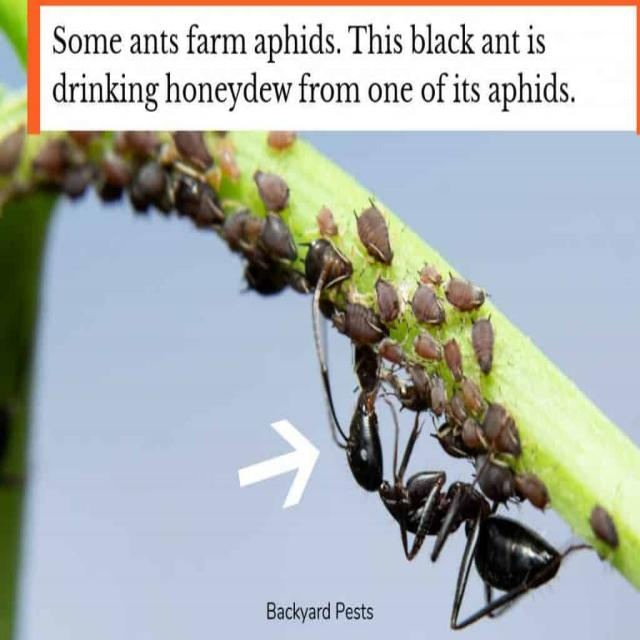Aphid-Grouped-: (300, 167, 549, 491)
Aphid-Grown-: (347, 185, 402, 272), (440, 257, 497, 332), (294, 223, 349, 297), (406, 275, 448, 342), (249, 156, 295, 217), (368, 267, 406, 333), (469, 309, 501, 381), (434, 330, 473, 389), (308, 198, 346, 250), (415, 327, 442, 365)
